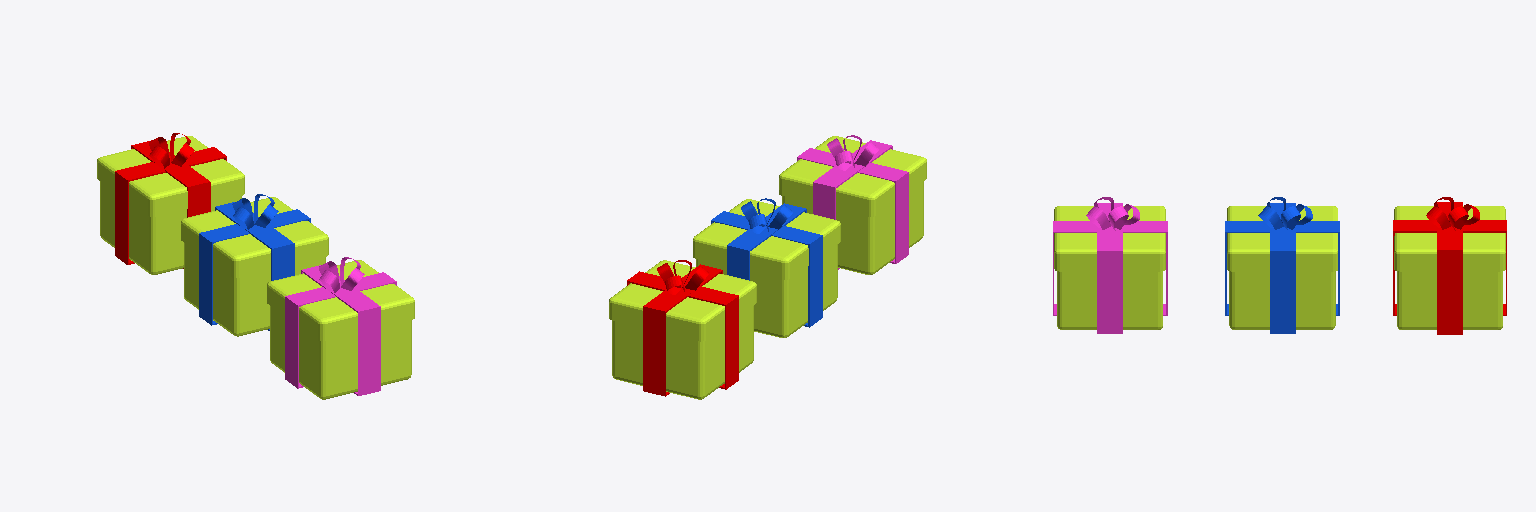
3 renders of one model, left to right at view 1: azimuth 30°, elevation 25°; view 2: azimuth 150°, elevation 25°; view 3: azimuth 270°, elevation 25°, orthographic.
Visible parts, largest first — view 1: Cube_004, Cube_005, Cube_003, Cube_001, Cube_002, Cube, Plane_006, Plane_000, Plane_008, Plane_005, Plane_003, Plane_001 (+3 smaller); view 2: Cube, Cube_005, Cube_003, Cube_001, Cube_004, Cube_002, Plane_001, Plane_000, Plane_005, Plane_008, Plane_006, Plane_003 (+3 smaller); view 3: Cube_002, Cube, Cube_004, Cube_005, Cube_003, Cube_001, Plane_000, Plane_005, Plane_008, Plane_003, Plane_006, Plane_001 (+3 smaller).
Part boxes in pixels (x1,y1,x2,y2): Cube_004: (270, 306, 411, 399); Cube_005: (267, 260, 414, 341); Cube_003: (181, 197, 328, 277); Cube_001: (97, 136, 244, 216); Cube_002: (184, 243, 325, 336); Cube: (100, 181, 241, 274); Plane_006: (301, 265, 380, 395); Plane_000: (115, 147, 226, 264); Plane_008: (285, 272, 396, 388); Plane_005: (199, 209, 310, 325); Plane_003: (215, 202, 294, 330); Plane_001: (131, 140, 210, 268); Cube: (612, 306, 753, 399); Cube_005: (779, 136, 926, 216); Cube_003: (693, 199, 840, 279); Cube_001: (609, 260, 756, 341); Cube_004: (782, 181, 923, 274); Cube_002: (696, 244, 837, 337); Plane_001: (643, 264, 722, 396); Plane_000: (627, 271, 738, 389); Plane_005: (711, 211, 822, 327); Plane_008: (797, 148, 908, 263); Plane_006: (813, 140, 892, 269); Plane_003: (727, 203, 806, 280); Cube_002: (1229, 271, 1335, 329); Cube: (1397, 271, 1502, 329); Cube_004: (1057, 271, 1162, 329); Cube_005: (1054, 206, 1165, 271); Cube_003: (1227, 206, 1337, 271); Cube_001: (1394, 206, 1505, 271); Plane_000: (1437, 202, 1462, 334); Plane_005: (1270, 203, 1295, 333); Plane_008: (1097, 203, 1122, 333); Plane_003: (1225, 221, 1339, 315); Plane_006: (1053, 221, 1167, 315); Plane_001: (1393, 220, 1506, 315).
Bounding box in the file's own units: 0.2549 × 0.2681 × 1.01.
Materials: 15 (4 with a texture image).